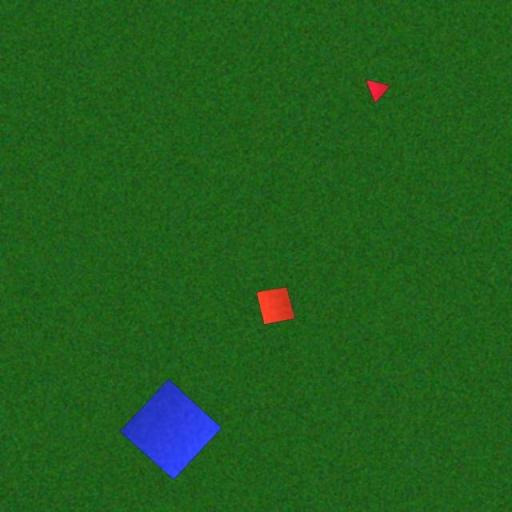BLUE_SQUARE: (120, 378, 222, 480)
RED_SQUARE: (256, 286, 296, 326)
